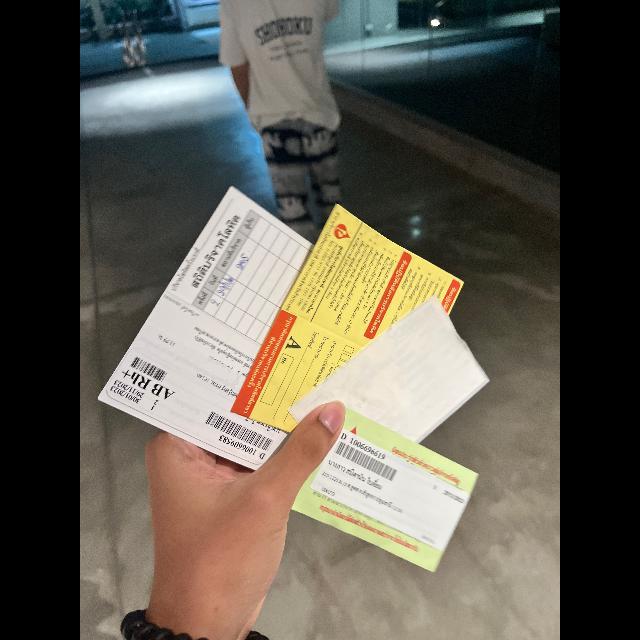scrap_paper: (86, 182, 334, 474), (241, 205, 474, 443), (264, 408, 484, 574), (291, 300, 491, 458)
